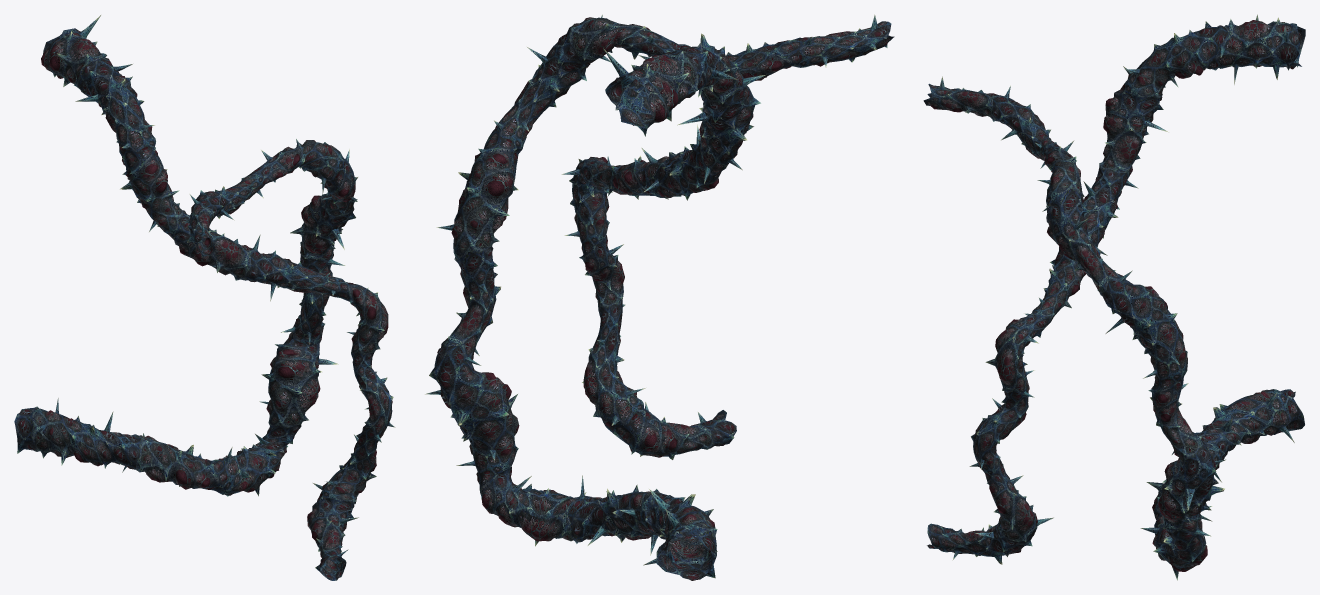
The model's file is backup.fbx.
3 renders of one model, left to right at view 1: azimuth 30°, elevation 25°; view 2: azimuth 150°, elevation 25°; view 3: azimuth 270°, elevation 25°, orthographic. The views are drawn at different scales.
Parts seen in each view (by area): view 1: LODGroup_1_MainMesh_1_SubMesh_1; view 2: LODGroup_1_MainMesh_1_SubMesh_1; view 3: LODGroup_1_MainMesh_1_SubMesh_1.
Part boxes in pixels (x1,y1,x2,y2): LODGroup_1_MainMesh_1_SubMesh_1: [14, 15, 395, 580]; LODGroup_1_MainMesh_1_SubMesh_1: [425, 14, 894, 580]; LODGroup_1_MainMesh_1_SubMesh_1: [923, 14, 1305, 580].
Size of the model in its own units: 839 by 1348 by 936.
